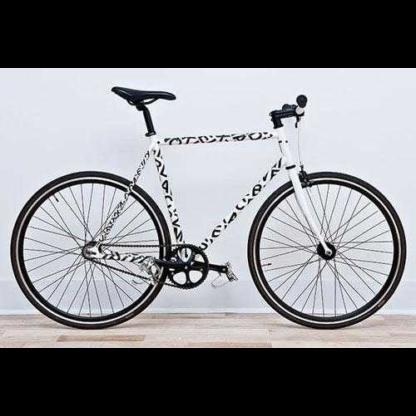Bicycle: (5, 77, 409, 336)
